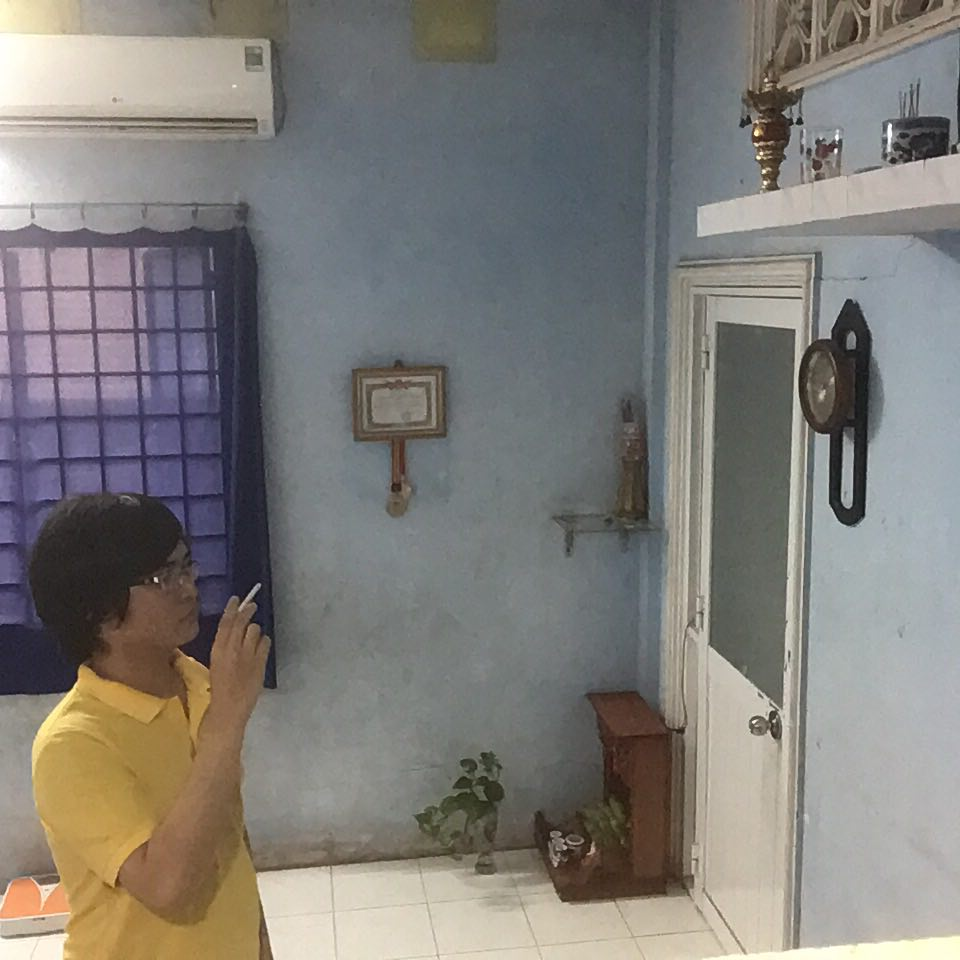cigarette: (240, 578, 267, 607)
person: (26, 491, 304, 958)
